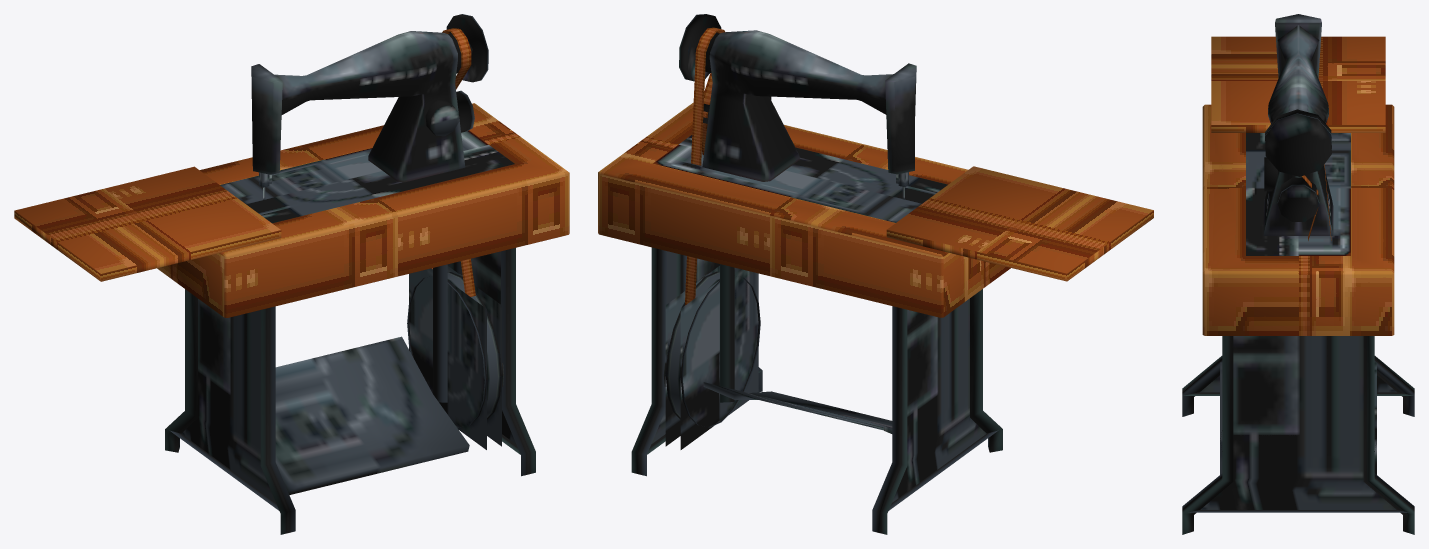
The model's file is int_oth_sewingM.dae.
3 views of the same model, side by side, from view 1: azimuth 30°, elevation 25°; view 2: azimuth 150°, elevation 25°; view 3: azimuth 270°, elevation 25° (orthographic).
Parts seen in each view (by area): view 1: int_oth_sewingM; view 2: int_oth_sewingM; view 3: int_oth_sewingM.
Part boxes in pixels (x1,y1,x2,y2): int_oth_sewingM: (14, 14, 569, 534); int_oth_sewingM: (598, 14, 1153, 534); int_oth_sewingM: (1182, 14, 1414, 534).
Size of the model in its own units: 49.6 by 42.38 by 21.34.
2 materials, 2 textured.
